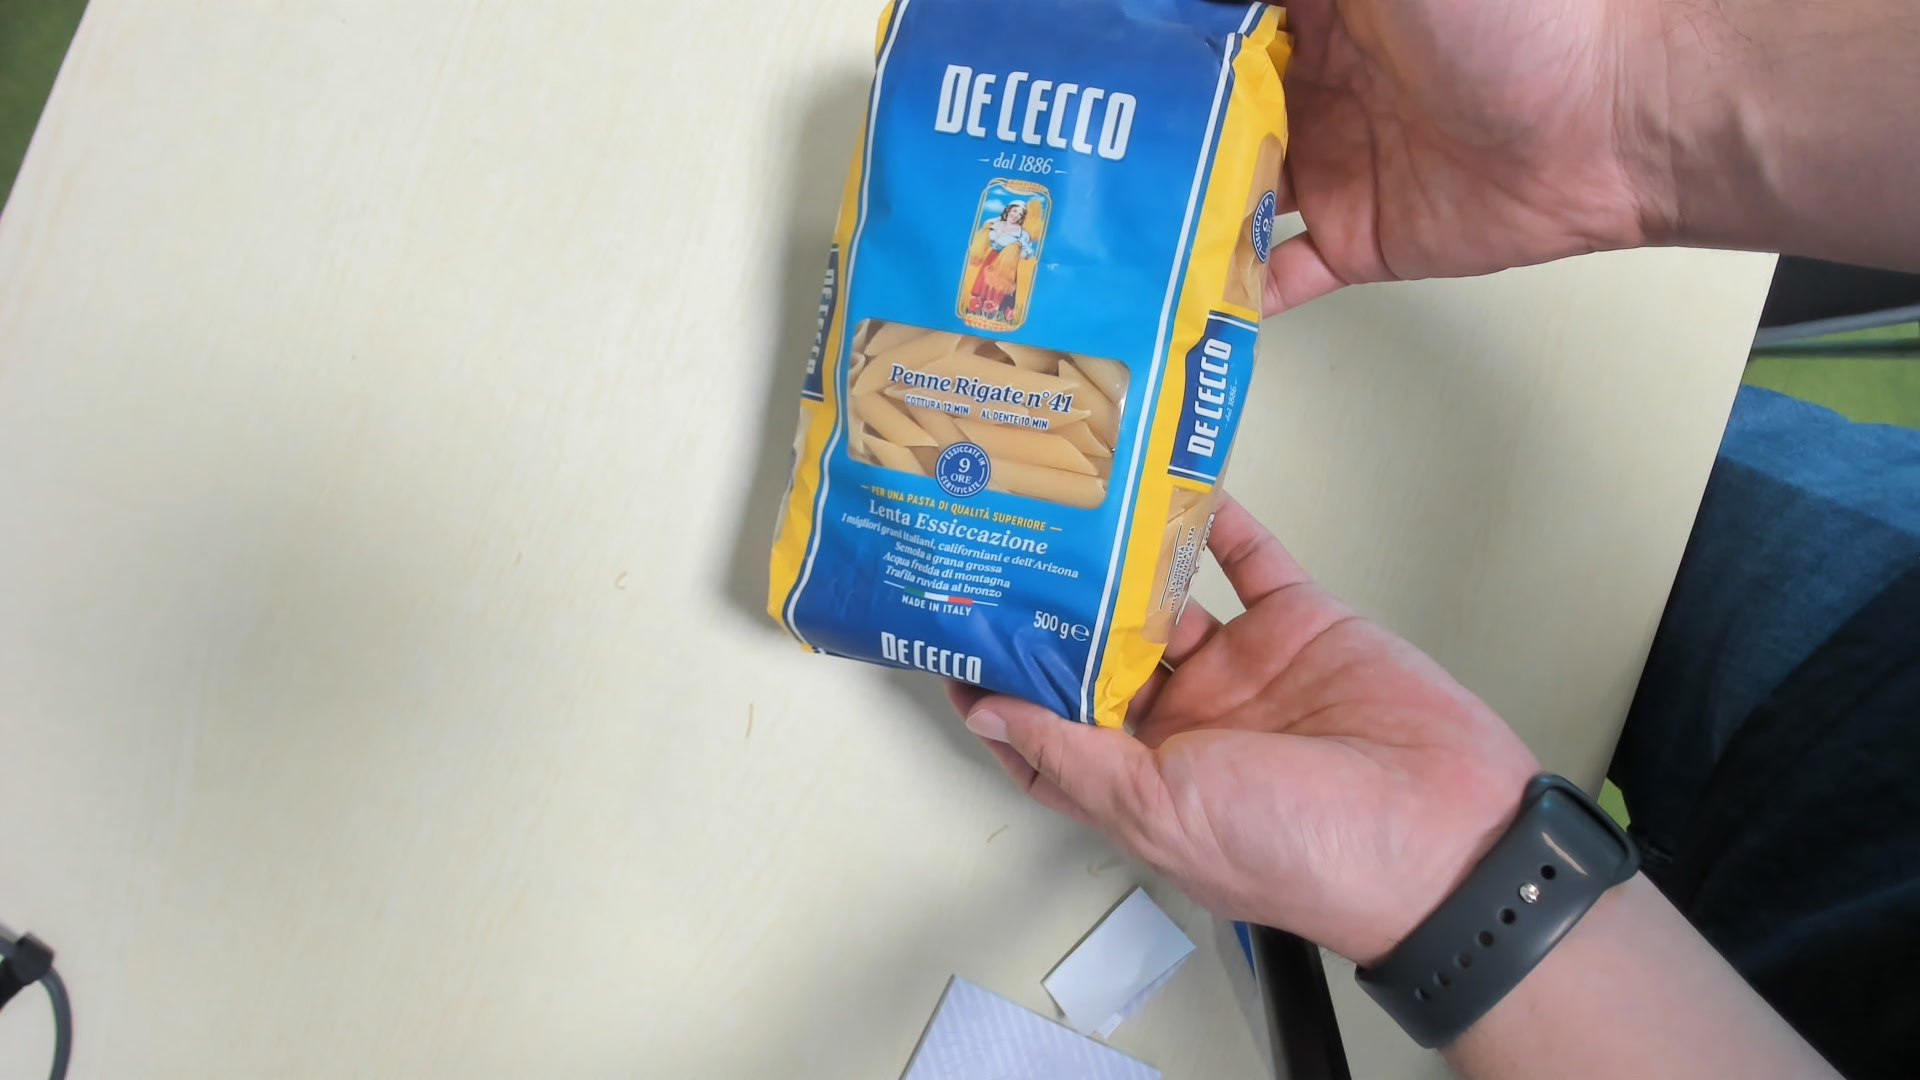Pasta_500-599g_NonHalal_NonHealthy: (762, 3, 1283, 729)
